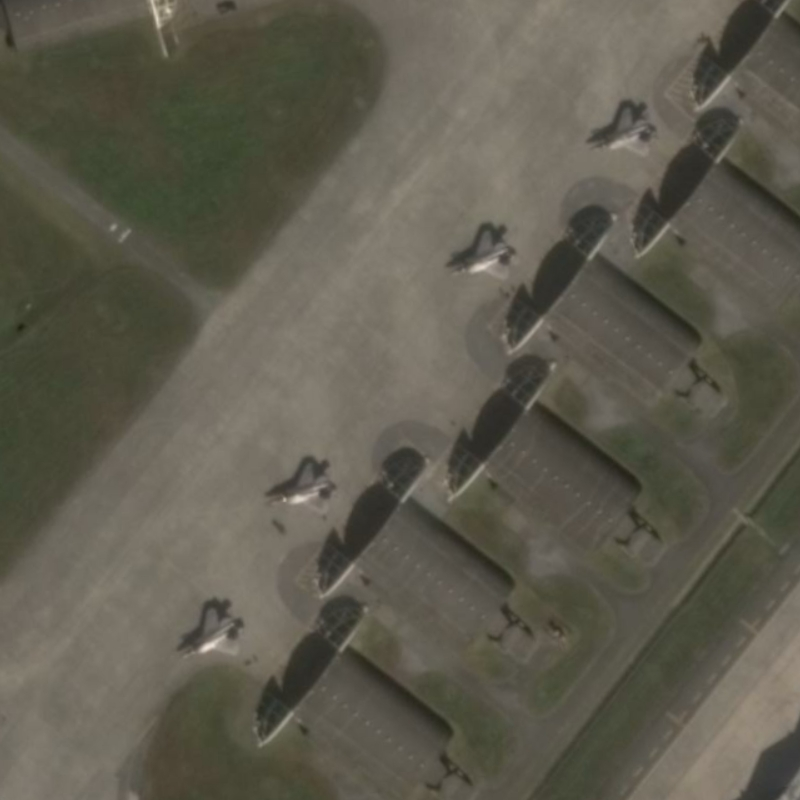A15: (165, 595, 253, 665), (580, 94, 663, 164), (265, 450, 341, 521), (445, 218, 521, 288)
